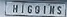character: (33, 5, 40, 13), (12, 3, 18, 12), (27, 4, 32, 13), (49, 5, 54, 14), (56, 5, 61, 14), (20, 4, 24, 13), (42, 5, 46, 14)
